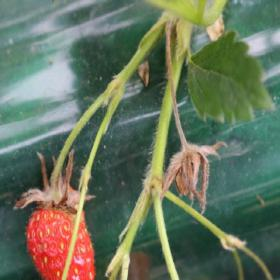Gray Mold: (160, 125, 230, 215), (12, 149, 97, 215)
